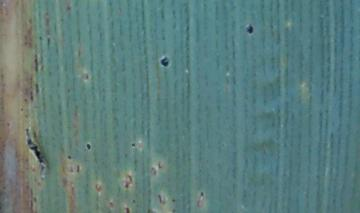tarspot: (23, 126, 45, 165), (32, 52, 40, 76), (122, 175, 134, 189), (159, 54, 169, 68), (244, 22, 254, 35), (156, 193, 166, 205), (149, 166, 158, 177), (45, 36, 51, 51), (84, 141, 92, 151), (145, 207, 158, 213), (28, 89, 34, 101), (74, 163, 81, 173), (157, 159, 163, 170), (130, 198, 138, 205), (83, 72, 90, 80), (34, 82, 39, 93), (66, 154, 73, 161), (129, 141, 136, 148), (170, 207, 178, 213), (124, 206, 130, 213), (169, 197, 176, 203), (64, 5, 71, 11), (37, 35, 43, 42), (22, 97, 28, 103), (199, 190, 204, 197), (5, 122, 11, 127)
